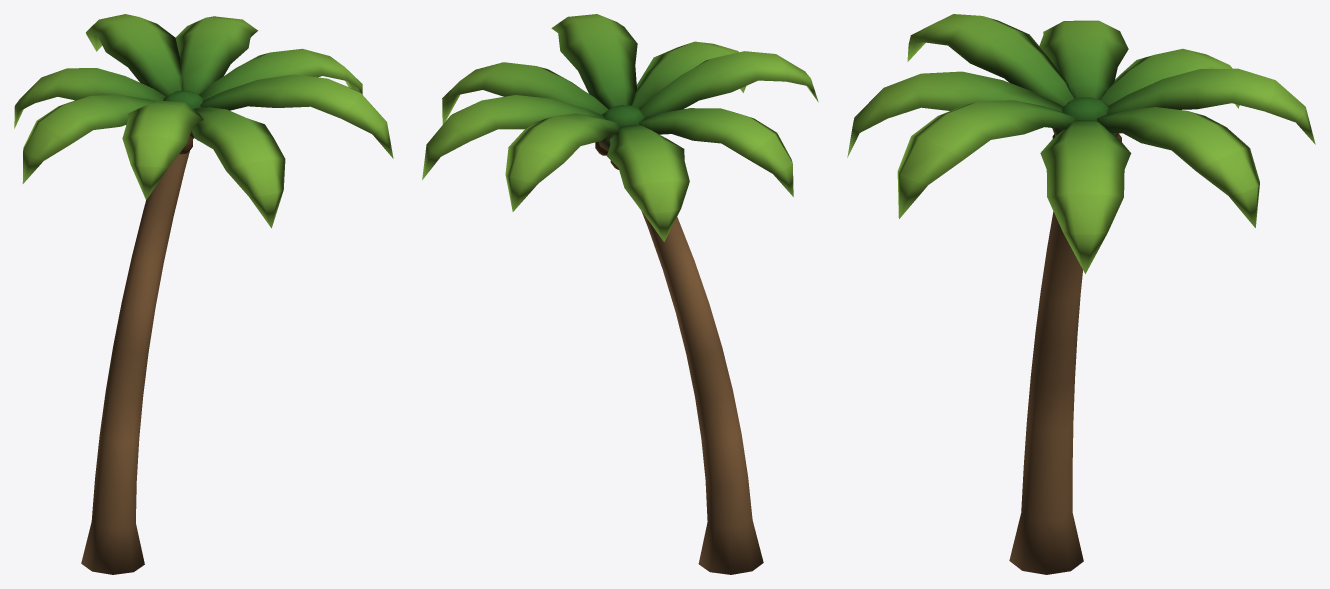
File: PalmTree.fbx
3 renders of one model, left to right at view 1: azimuth 30°, elevation 25°; view 2: azimuth 150°, elevation 25°; view 3: azimuth 270°, elevation 25°, orthographic. The views are drawn at different scales.
Visible parts, largest first — view 1: PalmTree; view 2: PalmTree; view 3: PalmTree.
Boxes of the visible parts, x1=… form: PalmTree: x1=14, y1=14, x2=393, y2=574; PalmTree: x1=422, y1=14, x2=818, y2=574; PalmTree: x1=847, y1=14, x2=1315, y2=574.
Size of the model in its own units: 5.59 by 7.34 by 5.68.
